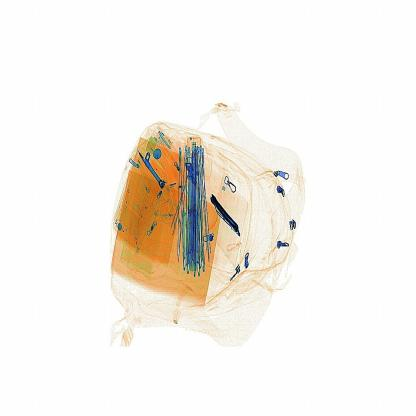knife: (206, 193, 243, 236)
